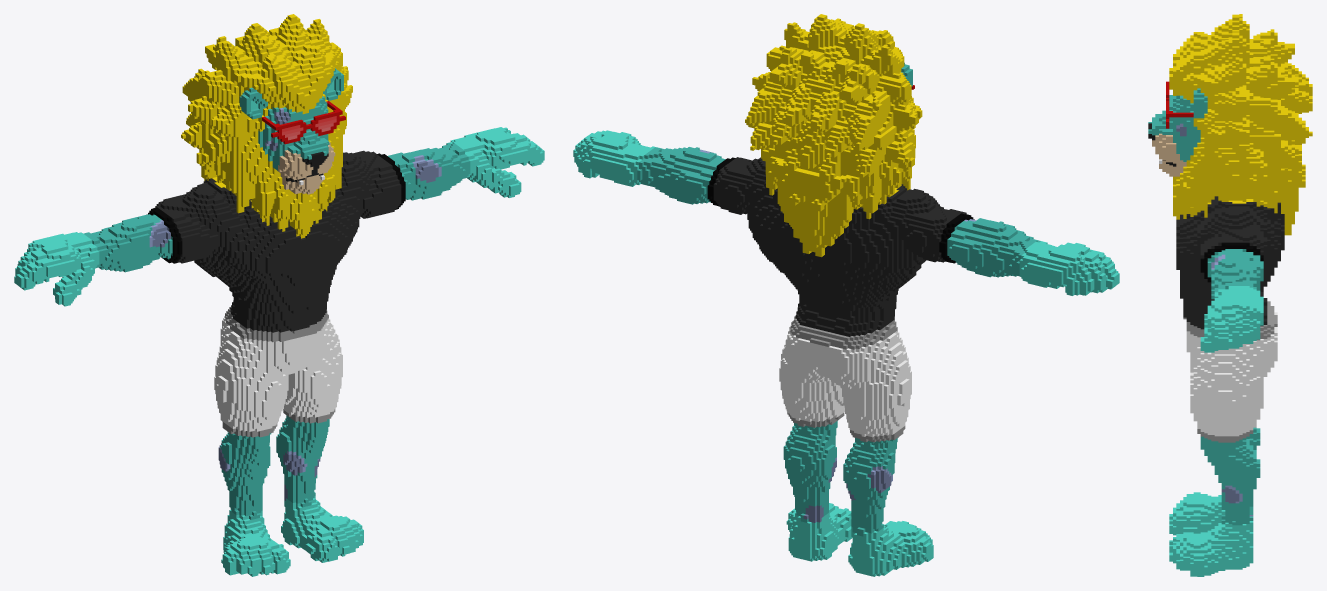
The picture shows the model from 3 angles, left to right: view 1: azimuth 30°, elevation 25°; view 2: azimuth 150°, elevation 25°; view 3: azimuth 270°, elevation 25°; orthographic projection. The views are drawn at different scales.
Parts seen in each view (by area): view 1: standard; view 2: standard; view 3: standard.
Boxes of the visible parts, left/top/right/bottom form: standard: left=14, top=14, right=544, bottom=576; standard: left=573, top=14, right=1119, bottom=576; standard: left=1148, top=14, right=1312, bottom=576.
Size of the model in its own units: 17.2 by 16.5 by 4.7.
5 materials, 5 textured.
